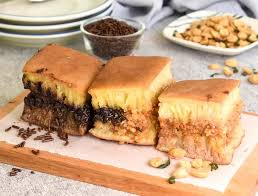Martabak manis: (160, 74, 241, 170), (88, 50, 166, 147), (24, 41, 89, 140)
